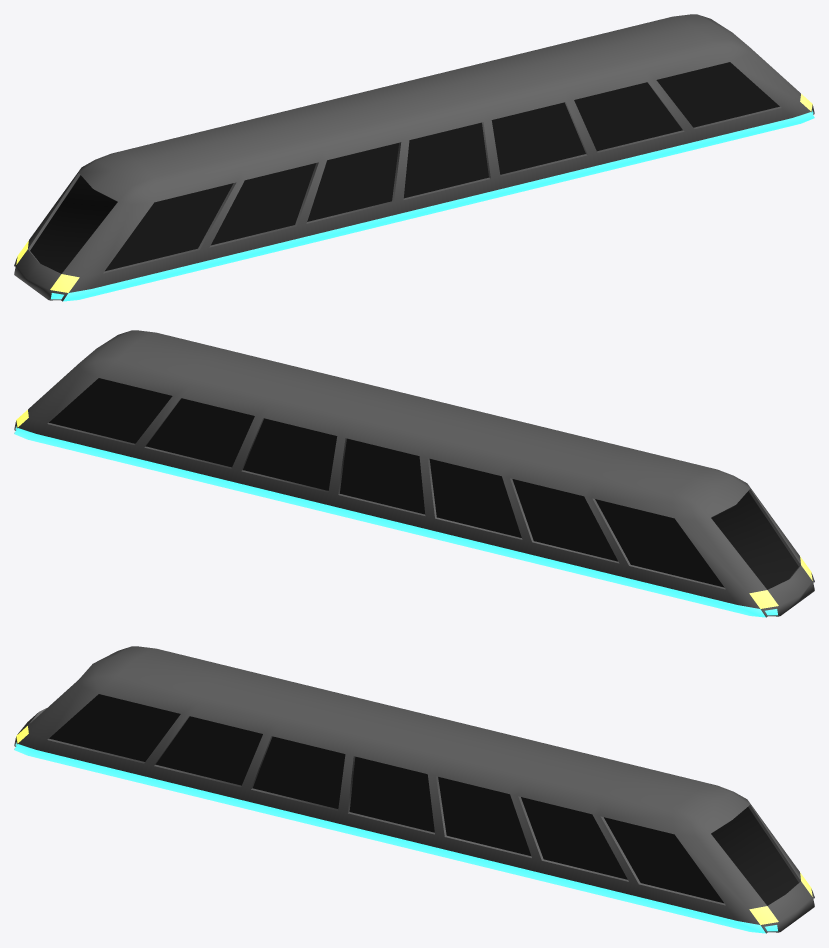
File: train.fbx
3 renders of one model, top to bottom at view 1: azimuth 30°, elevation 25°; view 2: azimuth 150°, elevation 25°; view 3: azimuth 330°, elevation 25°, orthographic.
Visible parts, largest first — view 1: Cube.002; view 2: Cube.002; view 3: Cube.002.
Part boxes in pixels (x1,y1,x2,y2): Cube.002: (14,14,814,301); Cube.002: (14,330,814,617); Cube.002: (14,646,814,933).
Bounding box in the file's own units: 15.95 × 2.06 × 2.
